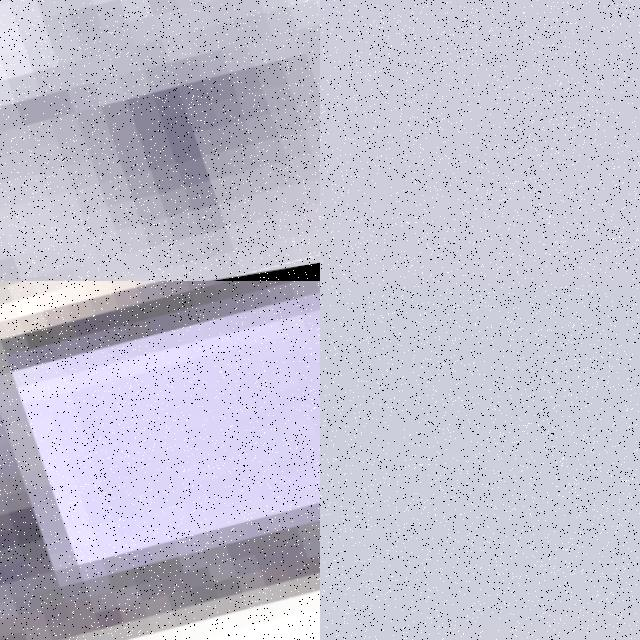0: (0, 0, 320, 281)
drone: (0, 281, 320, 640)
